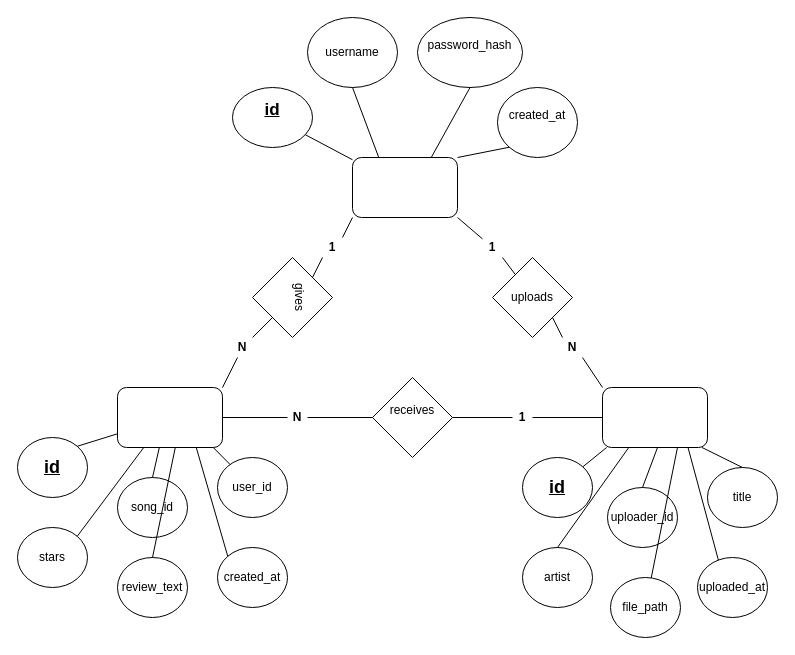
Some shapes in this 795 by 655 pixel diagram are drawn without their labels. Each missing label, with the centre of its shape:
"RATINGS" goes at (x=169, y=417).
"SONGS" goes at (x=655, y=417).
"USERS" goes at (x=405, y=187).
